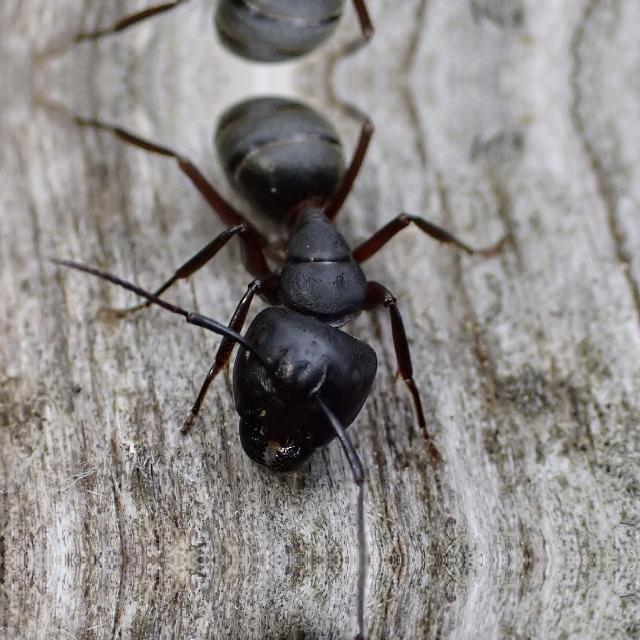Camponotus: (99, 80, 484, 507)
